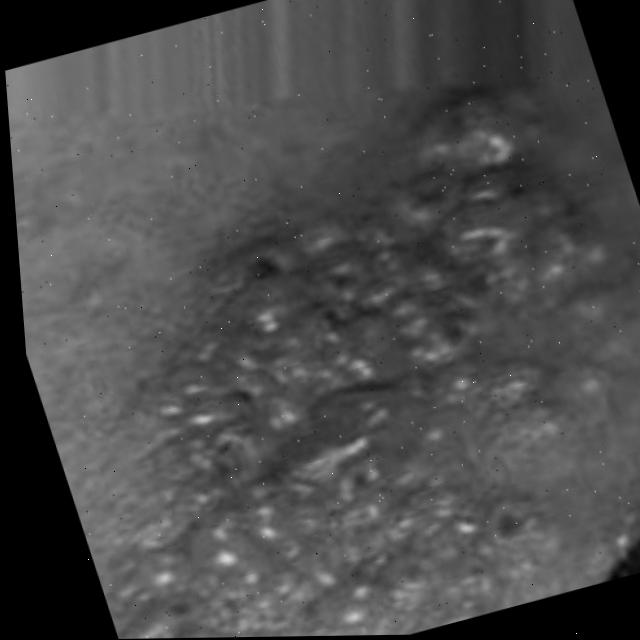Shingles: (5, 63, 640, 640)
